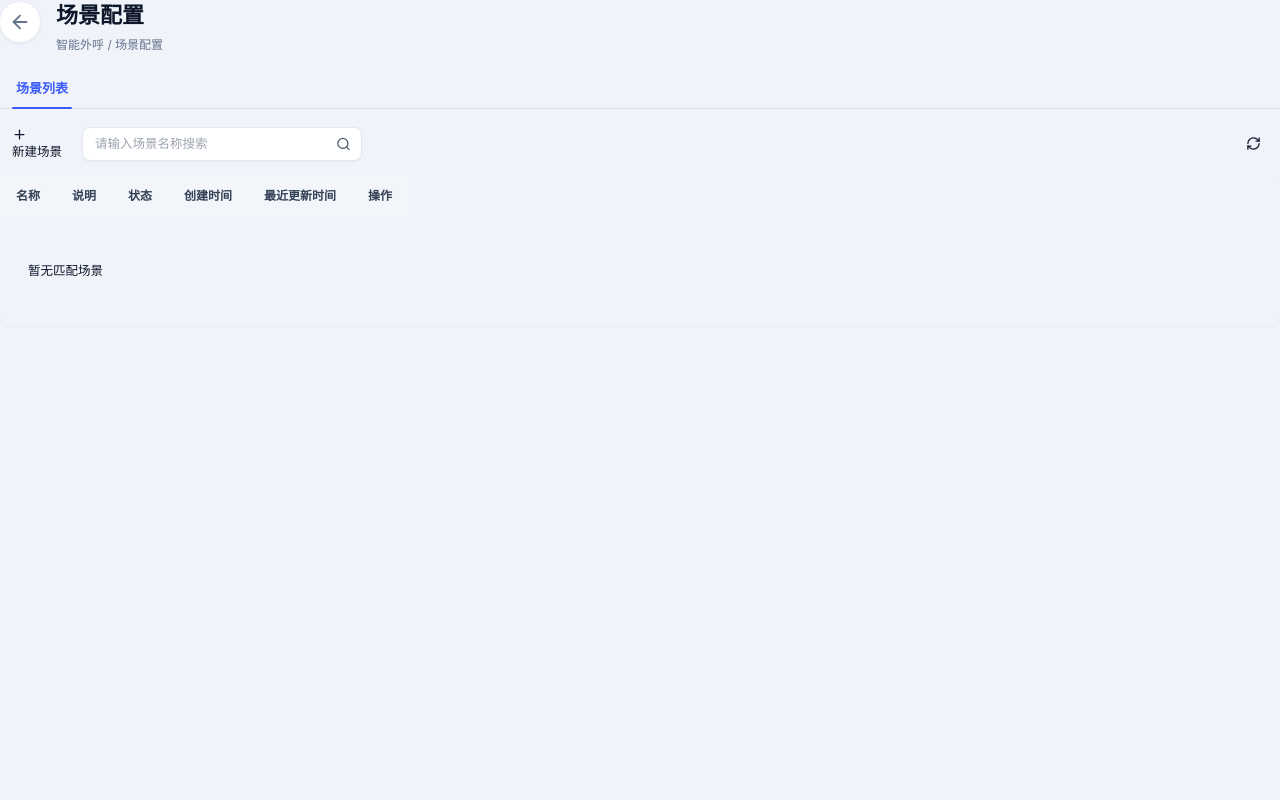
Test: 身份/沟通风格标签化 › 沟通风格支持新增自定义标签、多选与删除，删除自定义标签不影响其他已选风格
Click the button "新建场景": x=37, y=144 [0, 126, 74, 160]
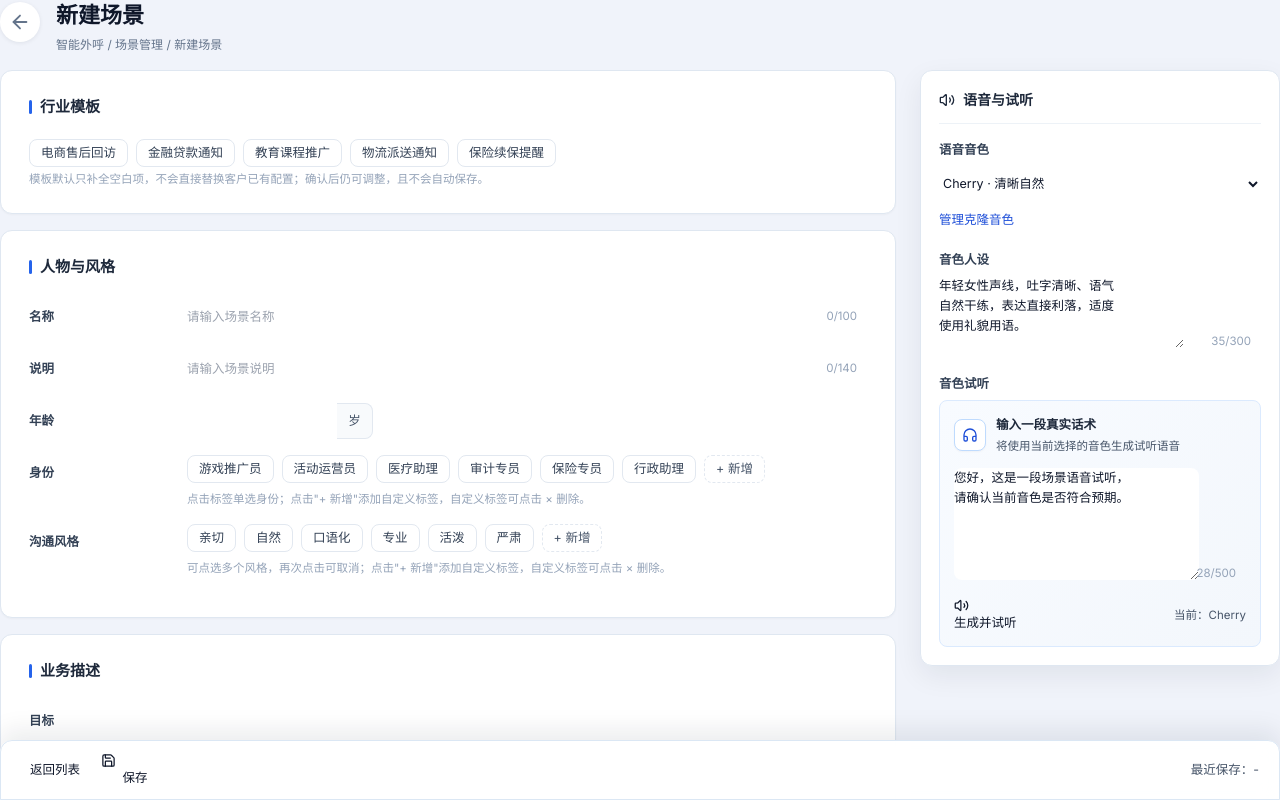
Click the button "亲切": x=212, y=538 [187, 524, 236, 552]
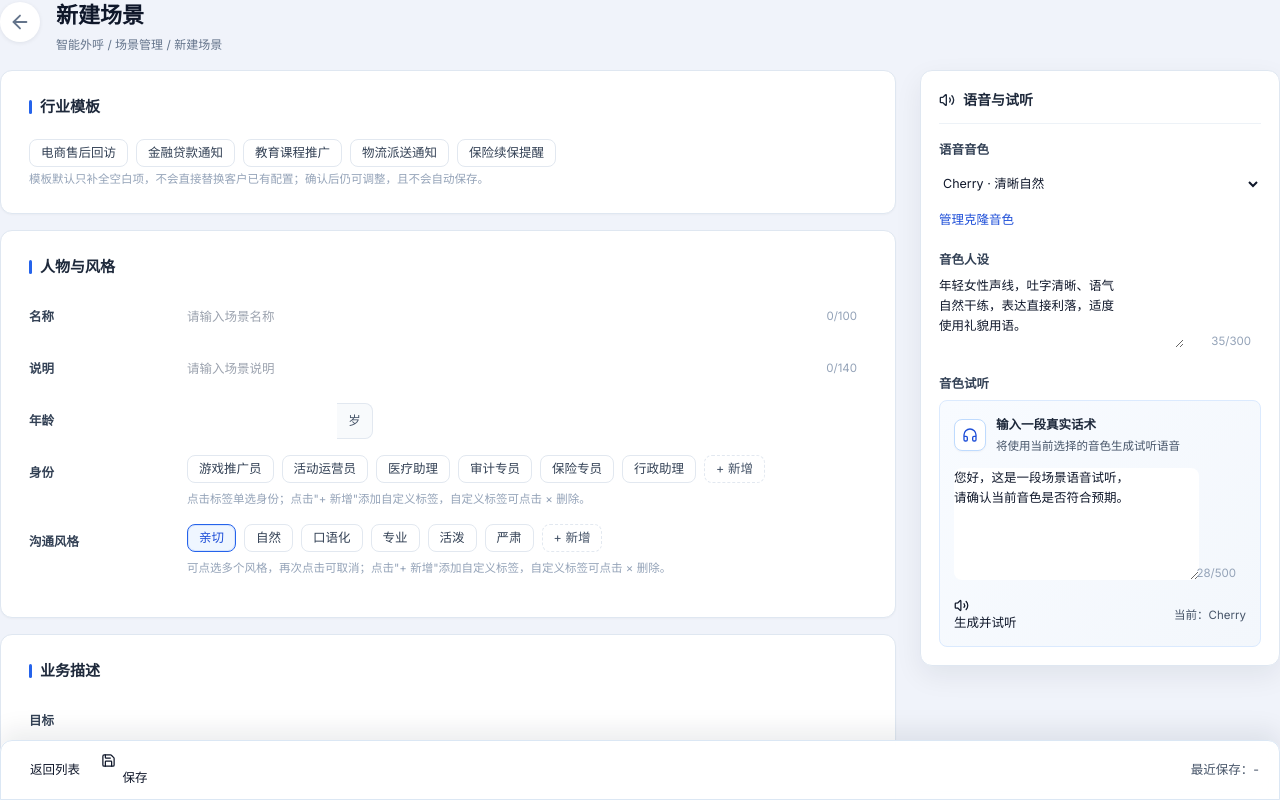
Click the button "+ 新增" in the row of "沟通风格": x=572, y=538 [542, 524, 602, 552]
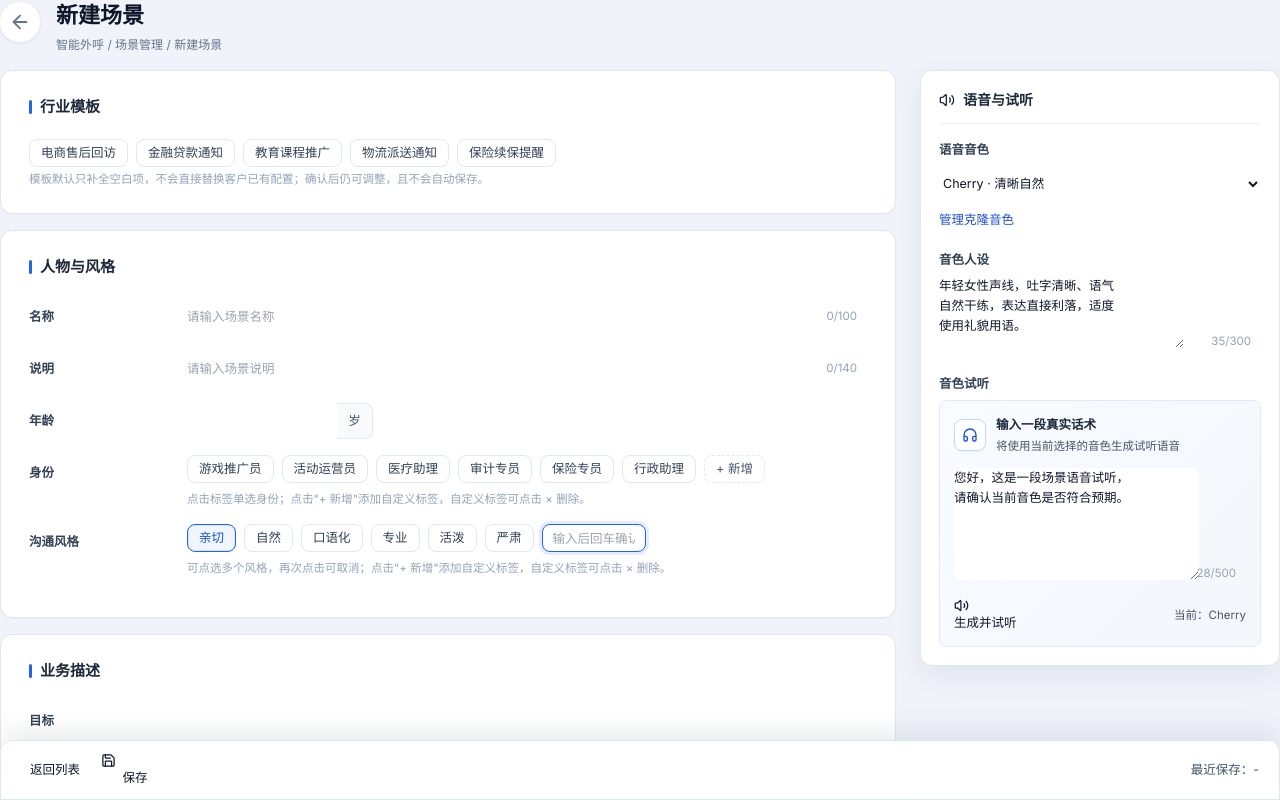
In the field with placeholder "输入后回车确认": x=594, y=538 [542, 524, 646, 552], type "接地气"
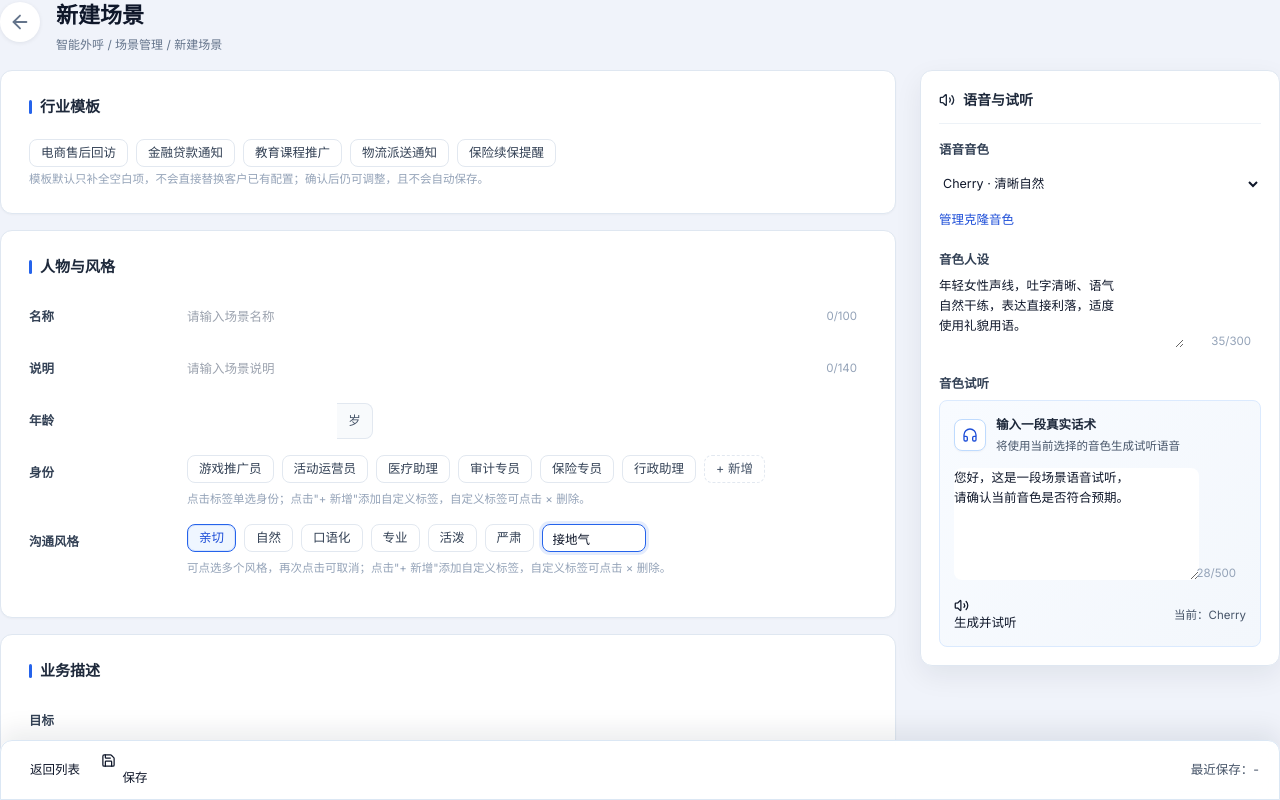
Press Enter in the field with placeholder "输入后回车确认" in the row of "沟通风格", box [542, 524, 646, 552]
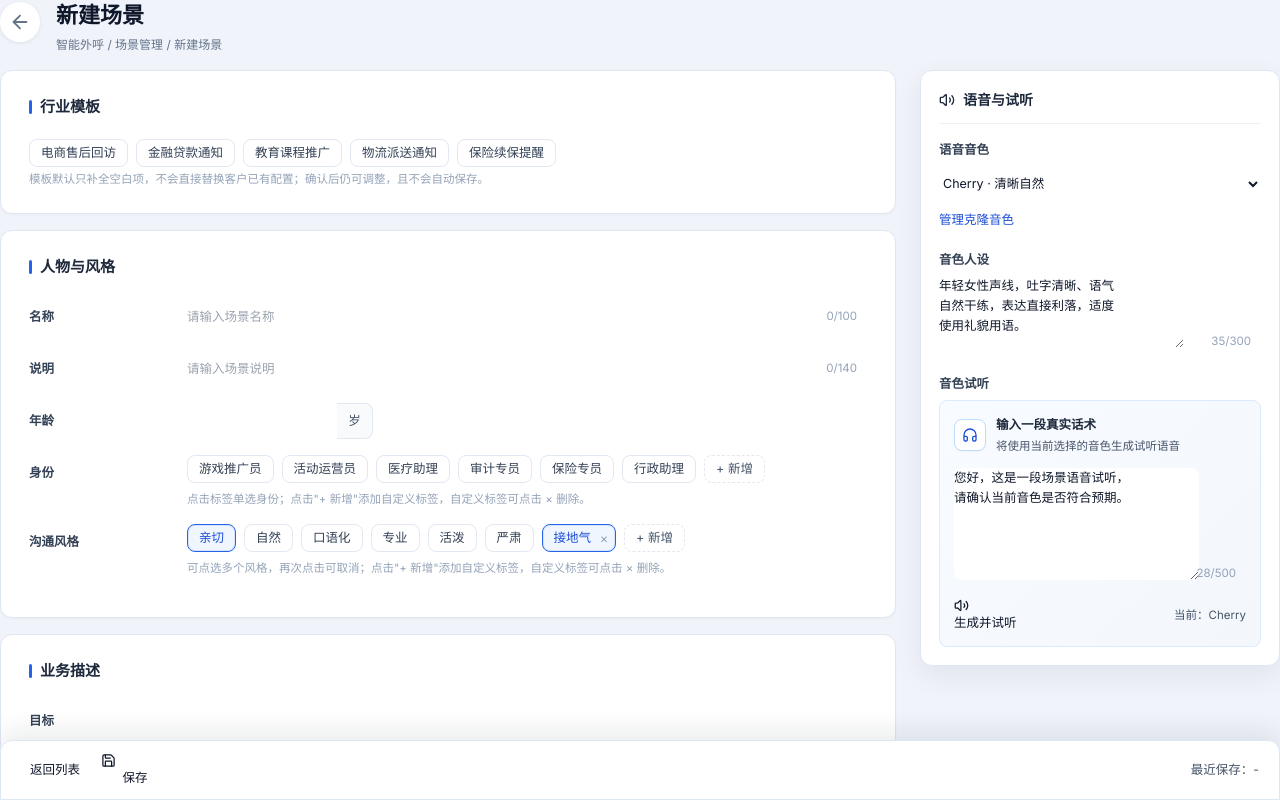
Expected: the button "亲切" is pressed, [187, 524, 236, 552]
Click the button named "删除标签 接地气": x=604, y=538 [596, 530, 612, 546]
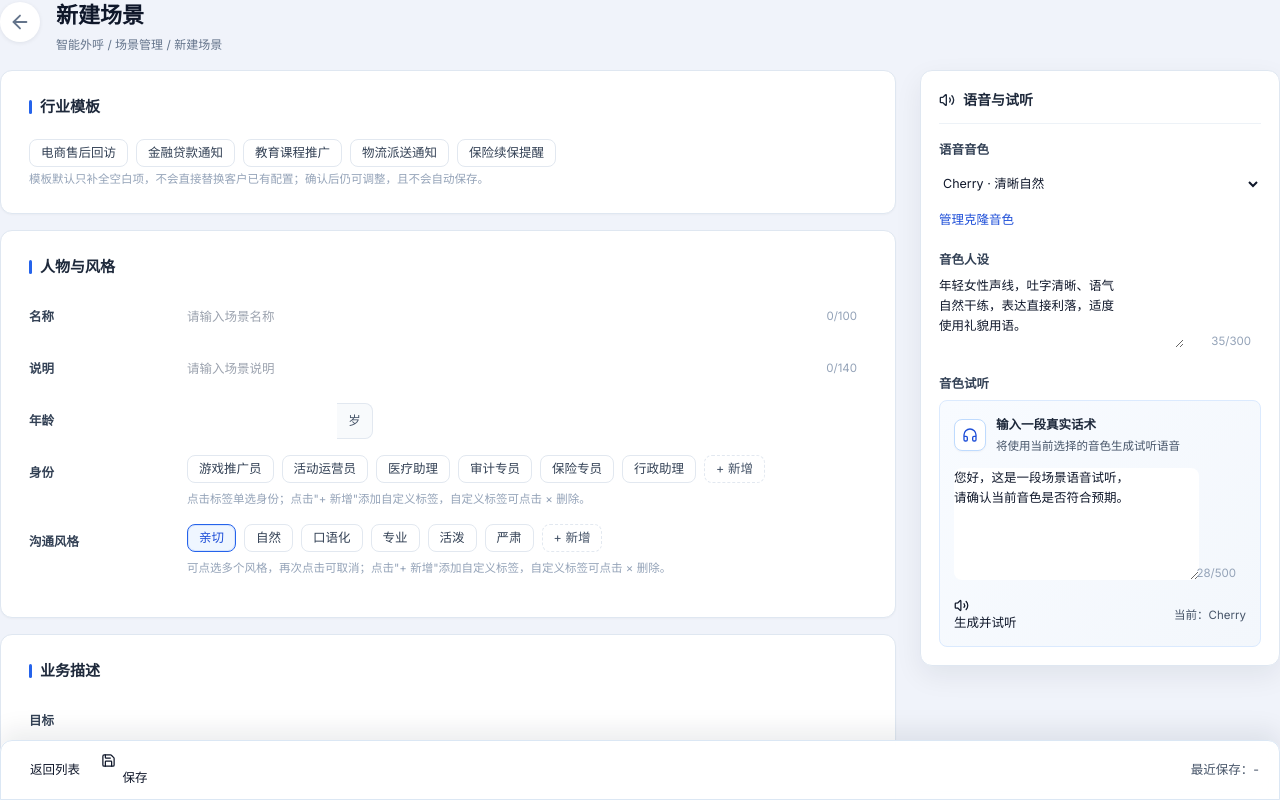
Expected: the button "接地气" is gone
